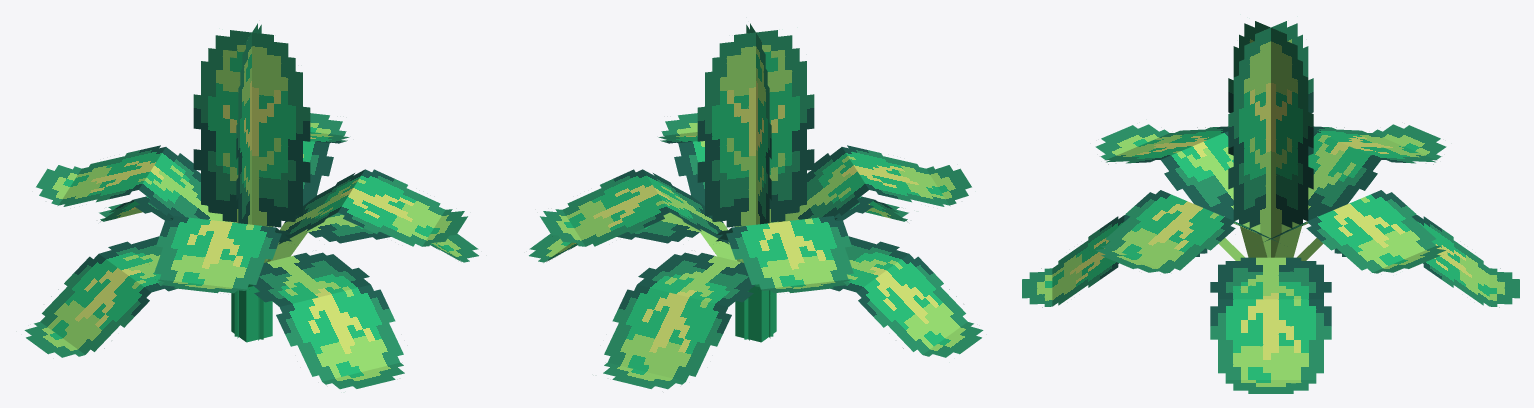
Rendered from Kale Grown.glb.
The picture shows the model from 3 angles, left to right: view 1: azimuth 30°, elevation 25°; view 2: azimuth 150°, elevation 25°; view 3: azimuth 270°, elevation 25°; orthographic projection.
Visible parts, largest first — view 1: cube (×26); view 2: cube (×26); view 3: cube (×25).
Boxes of the visible parts, bbox=[...] form: cube (×26): bbox=[24, 30, 478, 389]; cube (×26): bbox=[529, 30, 983, 389]; cube (×25): bbox=[1022, 21, 1519, 393].
Size of the model in its own units: 1.03 by 0.6875 by 1.03.
1 material, 1 textured.
